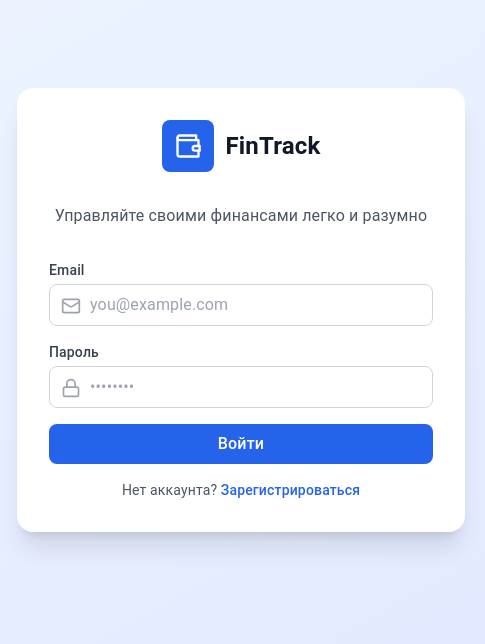
Scenario: Регистрация пользователя › SC-REG-02: Система показывает ошибку если email уже занят
Click the button "Зарегистрироваться" at point(291, 490), box [221,480,360,500]
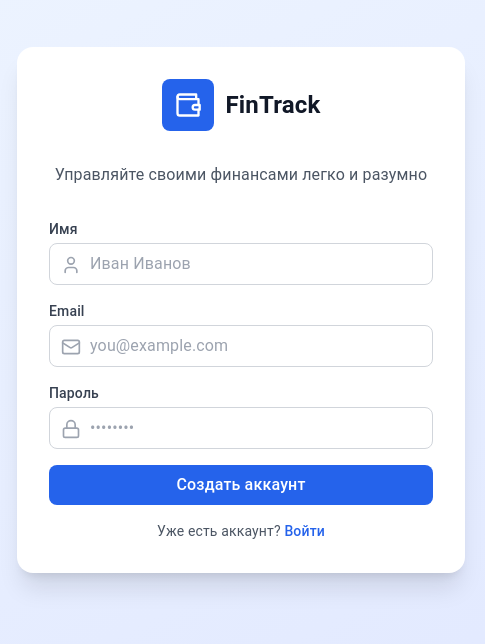
Type "Другой Пользователь" into the field with placeholder "Иван Иванов" at point(241, 264), box [49,243,433,285]
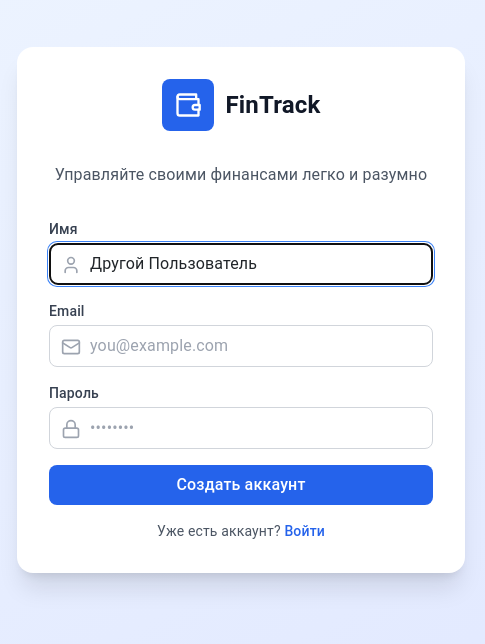
Type "existing@example.com" into the field with placeholder "you@example.com" at point(241, 346), box [49,325,433,367]
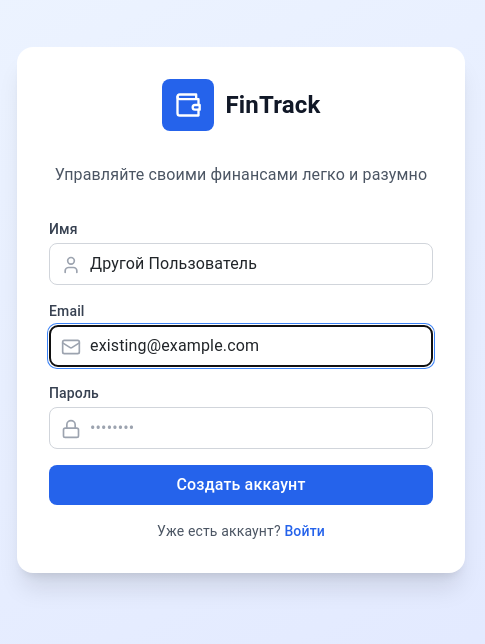
Type "ValidPass123!" into the password field with placeholder "••••••••" at point(241, 428), box [49,407,433,449]
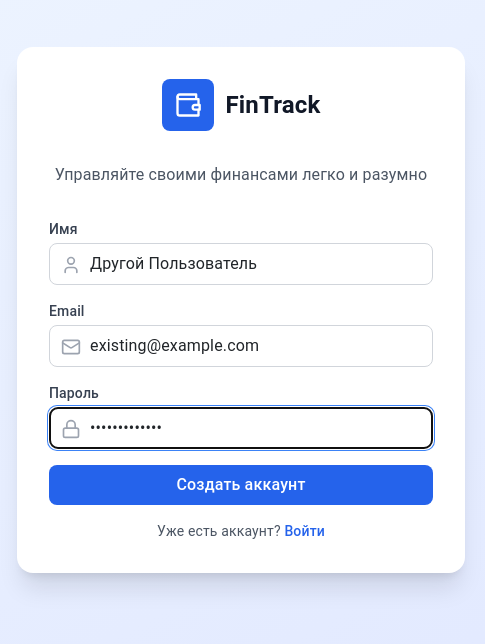
Click the submit button at point(241, 485), box [49,465,433,505]
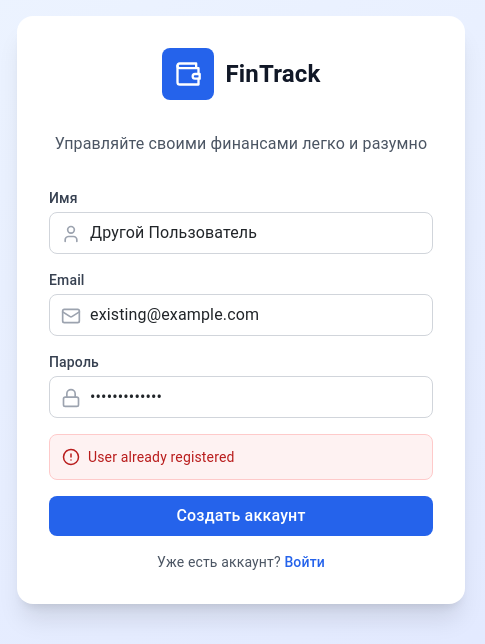
Check: the element showing "User already registered" is shown, box [49,434,433,480]
Check: the text "User already registered" is shown, box [88,447,234,467]
